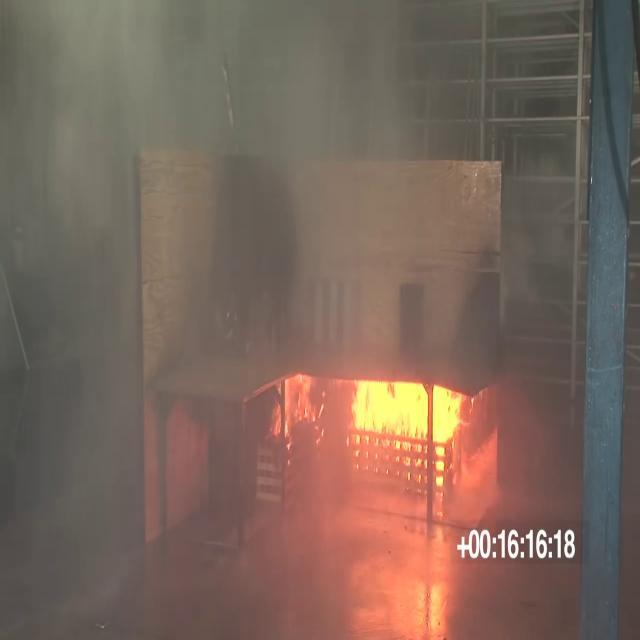Fire: (332, 328, 448, 508), (422, 390, 502, 509), (258, 344, 326, 472)
Smoke: (97, 48, 520, 368), (0, 0, 128, 584)
